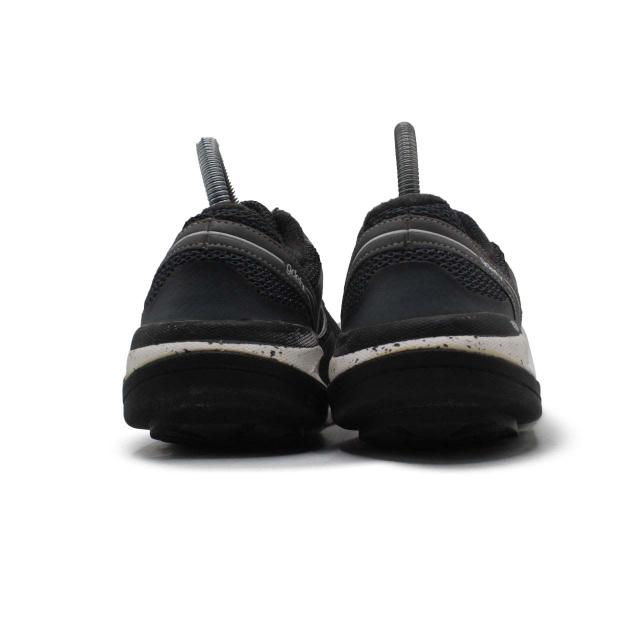heel: (135, 196, 317, 331), (349, 197, 504, 326)
midsole: (333, 334, 539, 423), (123, 338, 323, 424)
